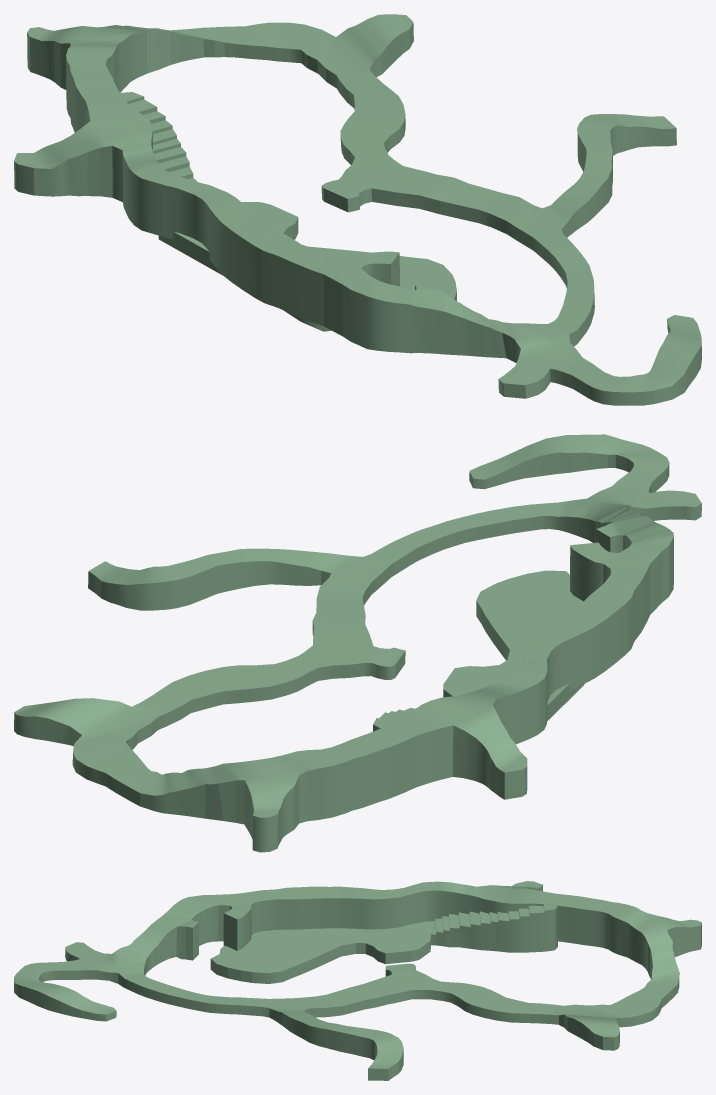
Rendered from Terrain.fbx.
The picture shows the model from 3 angles, top to bottom: view 1: azimuth 30°, elevation 25°; view 2: azimuth 150°, elevation 25°; view 3: azimuth 270°, elevation 25°; orthographic projection. The views are drawn at different scales.
Visible parts, largest first — view 1: Path2; view 2: Path2; view 3: Path2.
Boxes of the visible parts, bbox=[...] form: Path2: bbox=[14, 14, 701, 405]; Path2: bbox=[14, 434, 701, 852]; Path2: bbox=[14, 881, 701, 1080].
Bounding box in the file's own units: 18.25 × 1.99 × 29.3.
